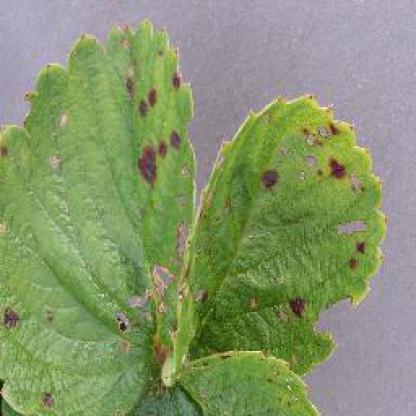leaf scorch: (0, 8, 393, 414)
